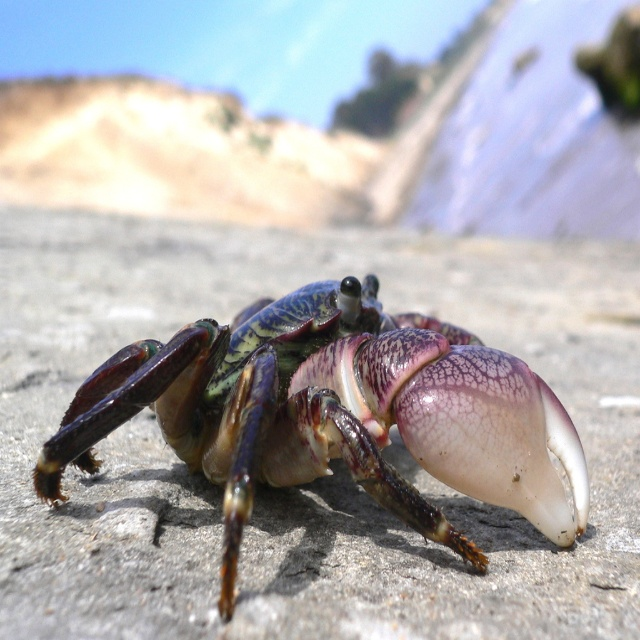Crab: (26, 271, 594, 629)
